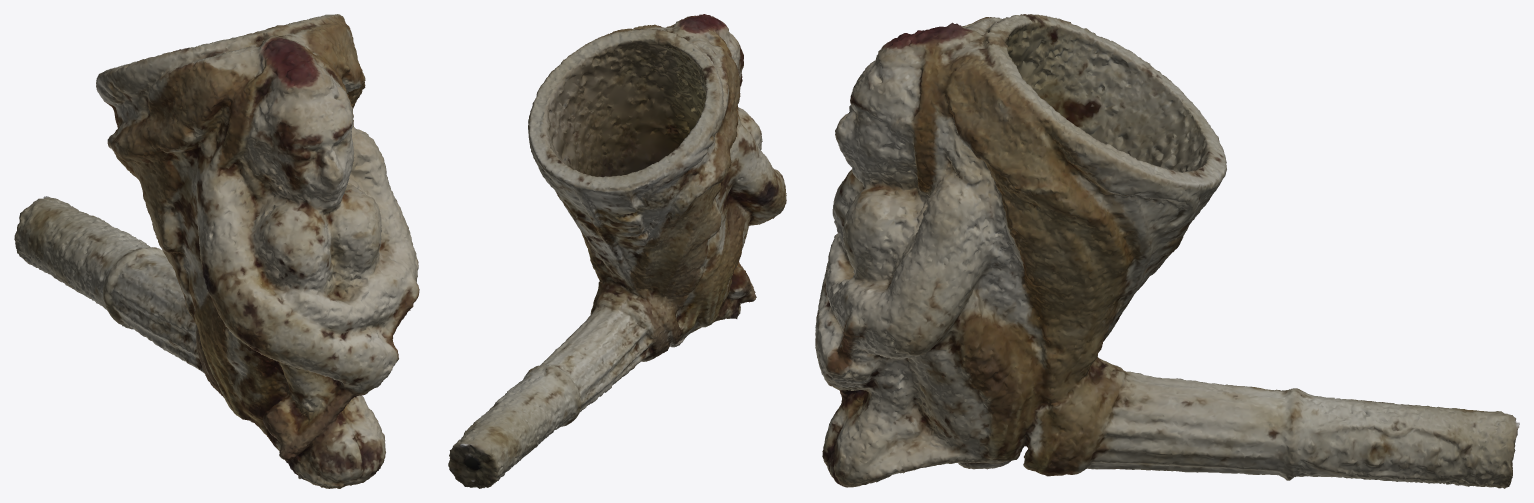
Rendered from NativeAmericanPipe_LOD0-1.glb.
3 renders of one model, left to right at view 1: azimuth 30°, elevation 25°; view 2: azimuth 150°, elevation 25°; view 3: azimuth 270°, elevation 25°, orthographic. The views are drawn at different scales.
Visible parts, largest first — view 1: NativeAmericanPipe_LOD0; view 2: NativeAmericanPipe_LOD0; view 3: NativeAmericanPipe_LOD0.
Boxes of the visible parts, left/top/right/bottom form: NativeAmericanPipe_LOD0: left=14, top=14, right=419, bottom=488; NativeAmericanPipe_LOD0: left=448, top=14, right=786, bottom=488; NativeAmericanPipe_LOD0: left=815, top=14, right=1519, bottom=488.
Bounding box in the file's own units: 0.8019 × 1.41 × 2.01.
